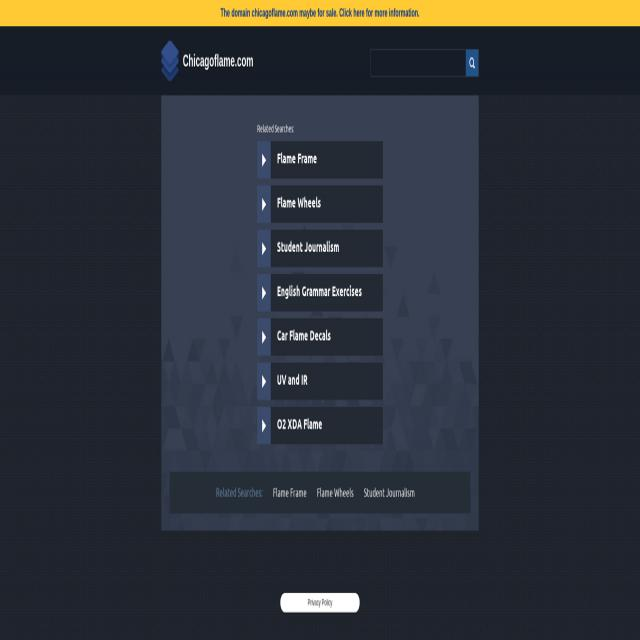button: (0, 0, 640, 26), (257, 141, 383, 179), (257, 185, 383, 223), (257, 274, 383, 312), (257, 362, 383, 400), (257, 230, 383, 267), (257, 318, 383, 355), (257, 407, 383, 444), (161, 41, 253, 80), (279, 593, 359, 612), (466, 50, 478, 76)
field: (371, 50, 465, 76)
